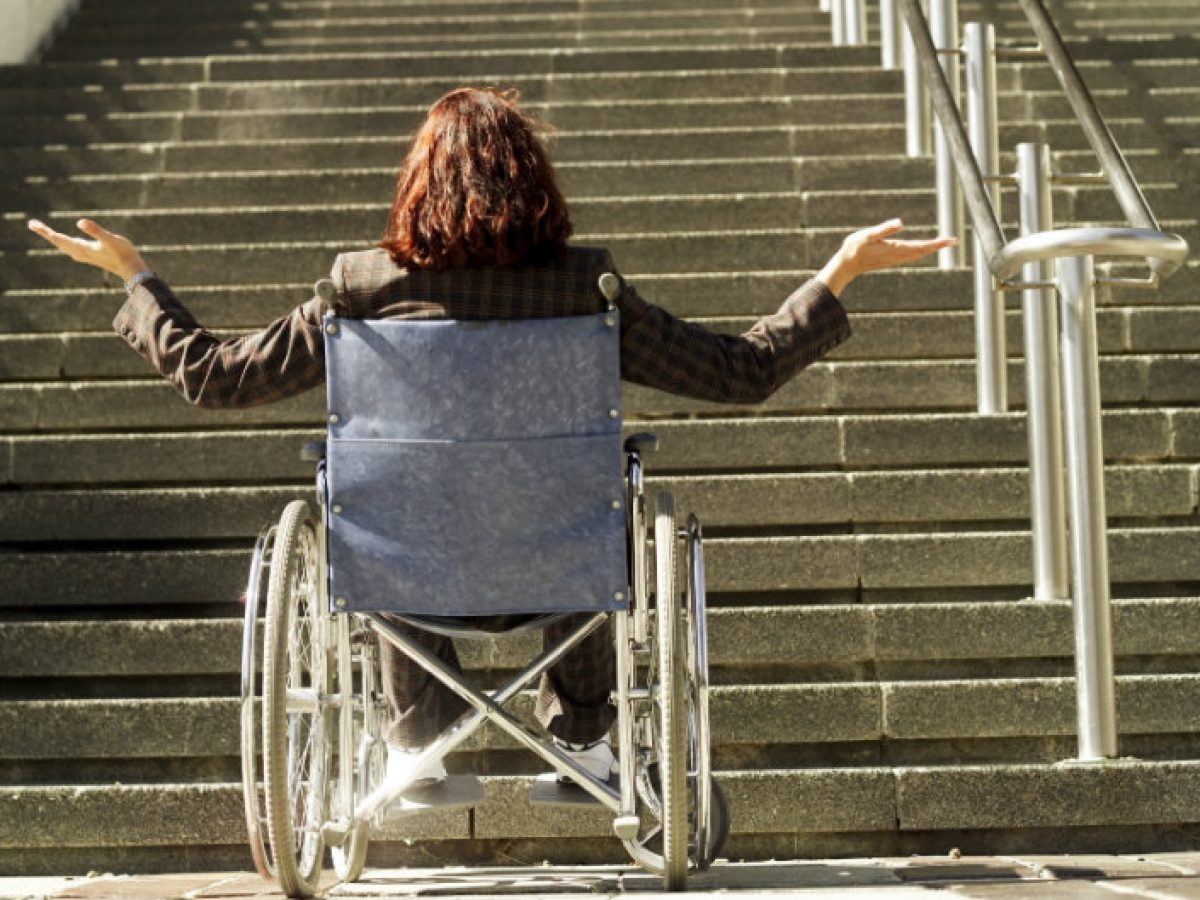wheelchair: (27, 89, 955, 895)
